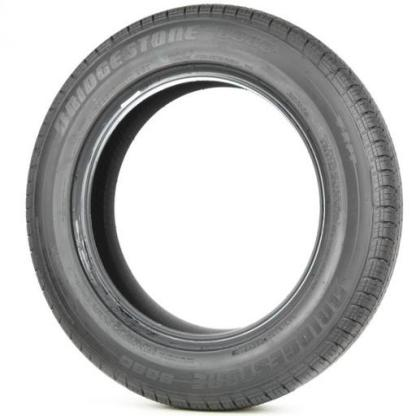Tire: (25, 3, 404, 412)
